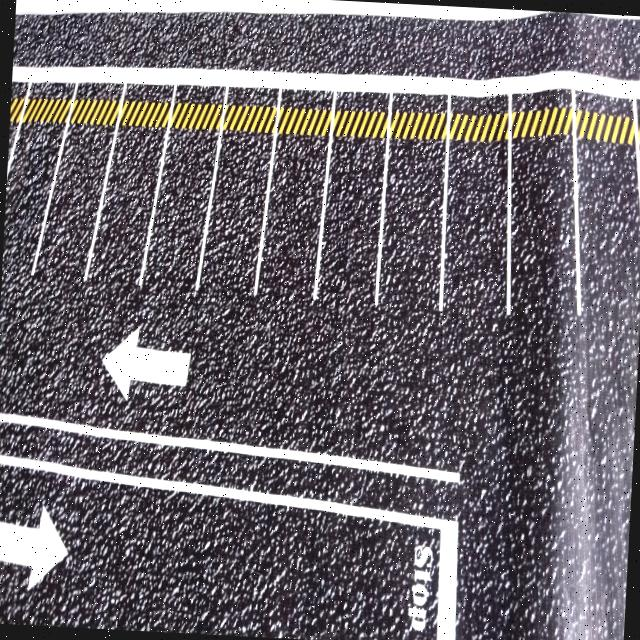slots: (511, 135, 575, 351), (88, 126, 163, 304), (142, 127, 218, 297), (379, 138, 445, 329), (199, 126, 273, 296), (36, 124, 113, 283), (444, 139, 507, 328), (258, 133, 328, 301), (318, 136, 386, 308), (578, 143, 640, 300), (2, 123, 64, 276)
